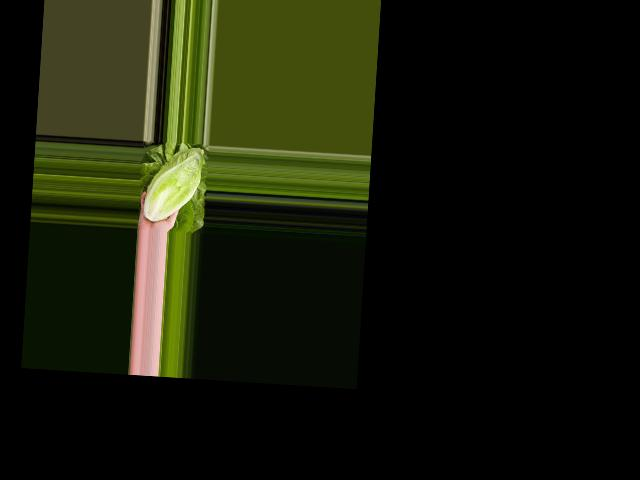lettuce: (140, 144, 204, 225)
